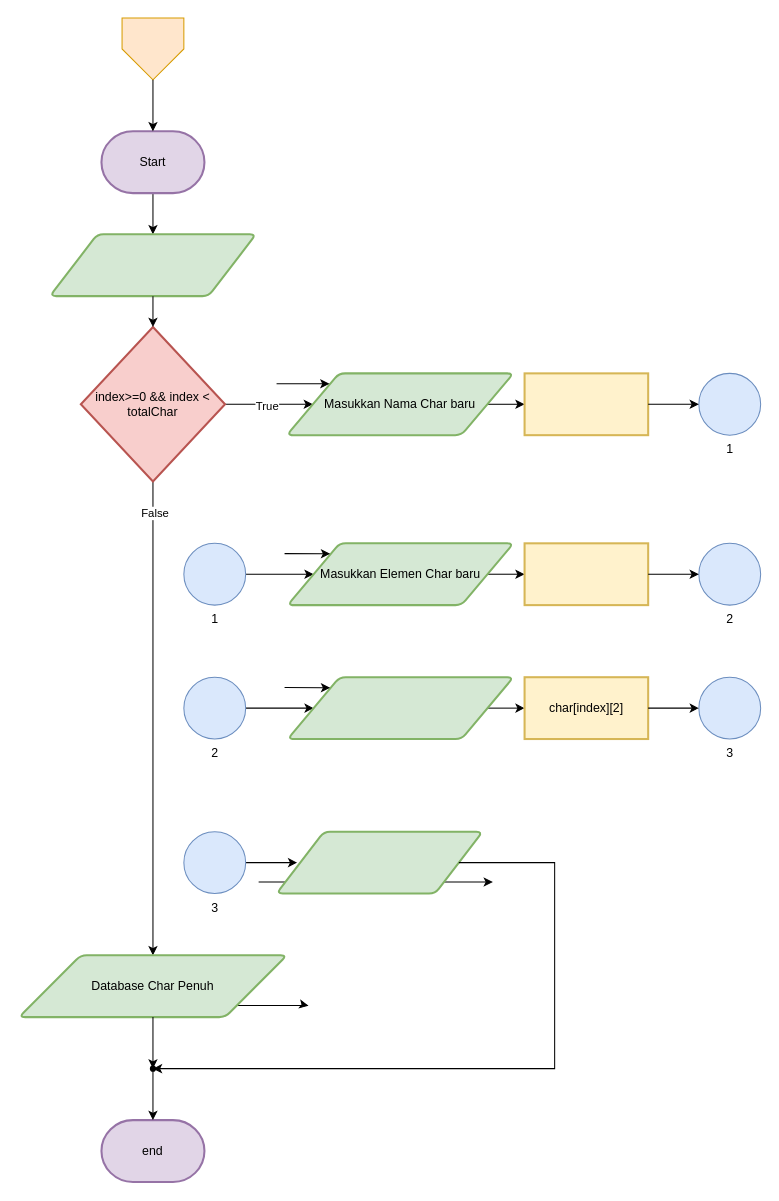
Some shapes in this 779 by 1201 pixel diagram are drawn without their labels. Here are the shapes that lost their labels. From the top down, the box of each, then its label:
(121, 17, 184, 80): Edit_Char
(48, 233, 256, 297): Nama Char Elemen Rarity
(523, 372, 649, 436): char[index][0]
(523, 542, 649, 606): char[index][1]
(286, 676, 514, 740): Masukkan Rarity Char baru
(275, 830, 483, 894): Char berhasil diperbarui
